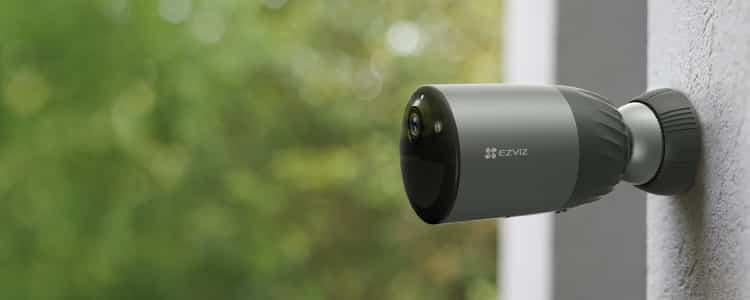camera: (359, 48, 639, 236)
